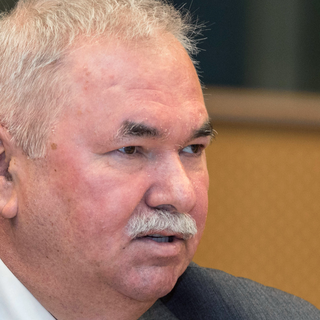eye: (101, 138, 154, 164), (175, 136, 211, 158)
